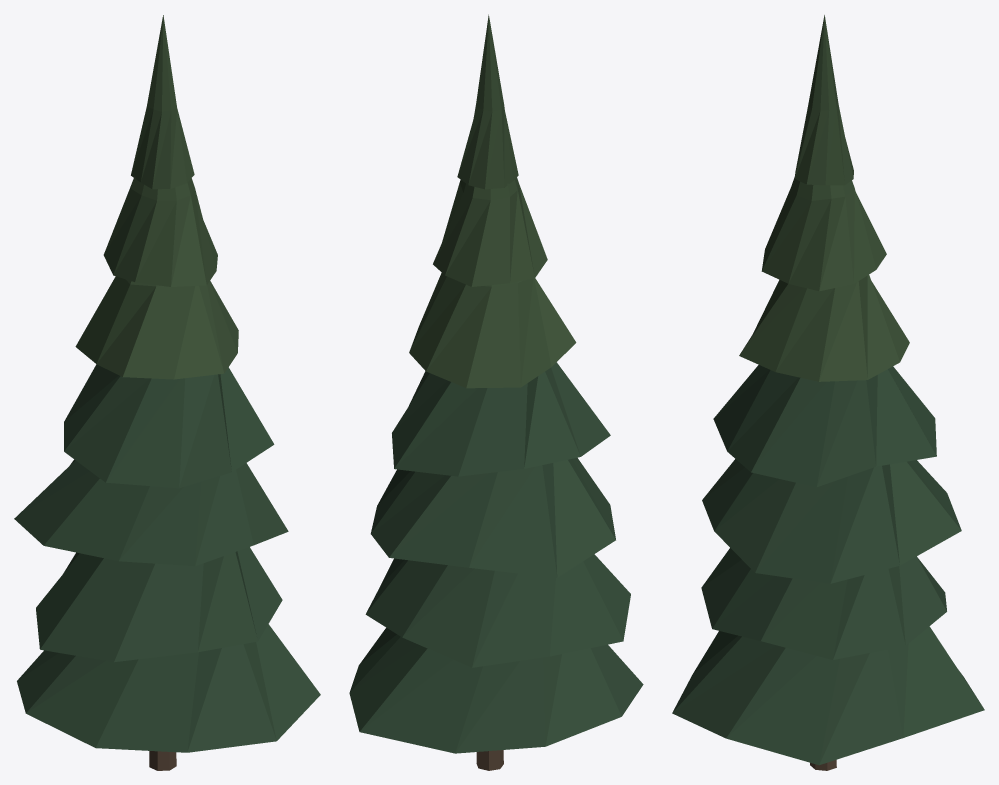
File: conifer_spruce.glb
3 renders of one model, left to right at view 1: azimuth 30°, elevation 25°; view 2: azimuth 150°, elevation 25°; view 3: azimuth 270°, elevation 25°, orthographic.
Parts seen in each view (by area): view 1: conifer_spruce; view 2: conifer_spruce; view 3: conifer_spruce.
Part boxes in pixels (x1,y1,x2,y2): conifer_spruce: (14, 15, 320, 770); conifer_spruce: (349, 14, 643, 770); conifer_spruce: (672, 15, 984, 770).
Bounding box in the file's own units: 5.04 × 13.5 × 5.09.
